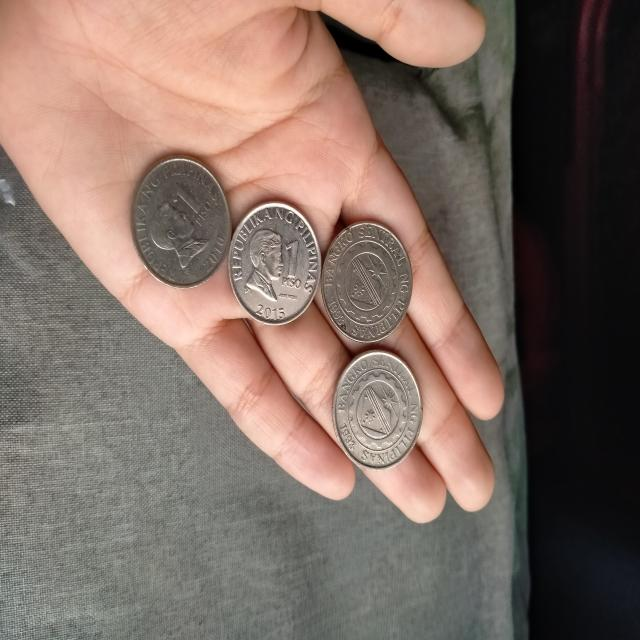1_Old_Back: (332, 236, 402, 329), (344, 367, 408, 461)
